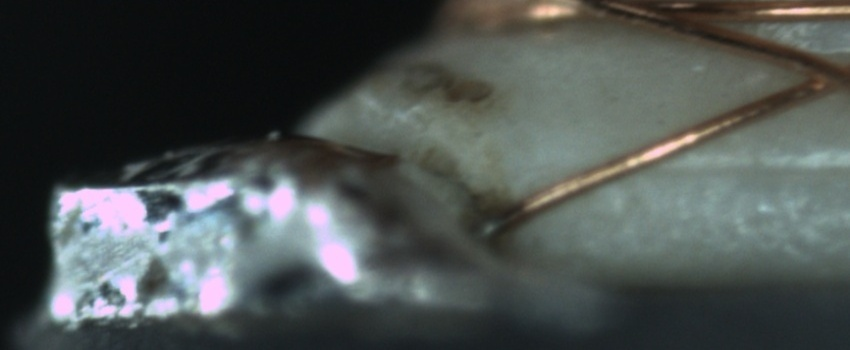CL: (780, 47, 846, 101)
DL: (617, 130, 844, 203)
